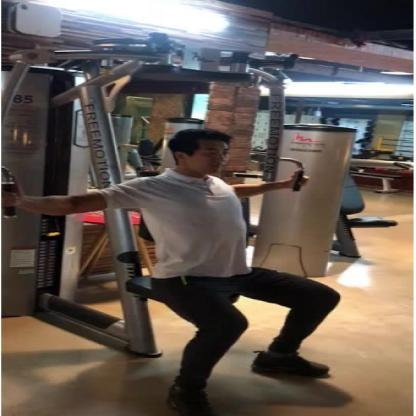chest fly machine: (0, 33, 416, 416)
